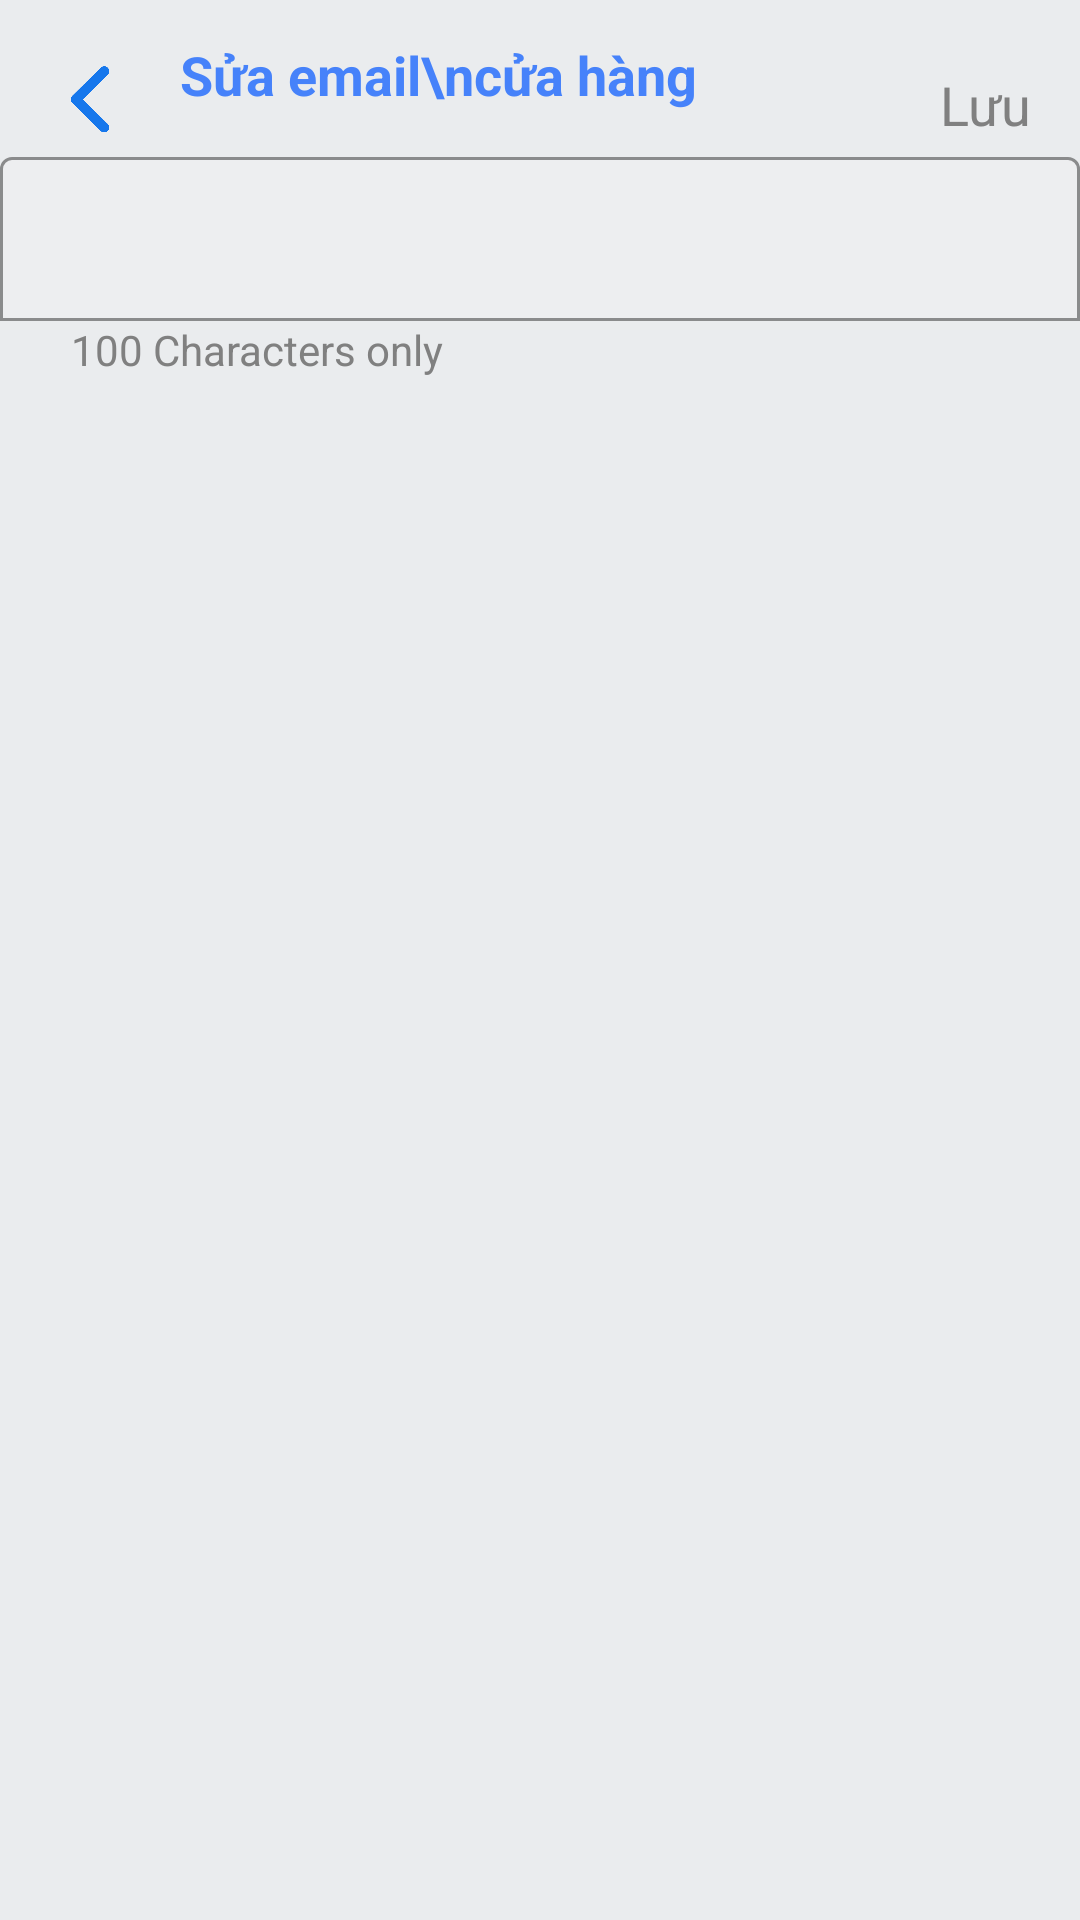

Icons on this 1080x1920 Android screen, each with the point to tap as [x,y]:
back: [90,99]
